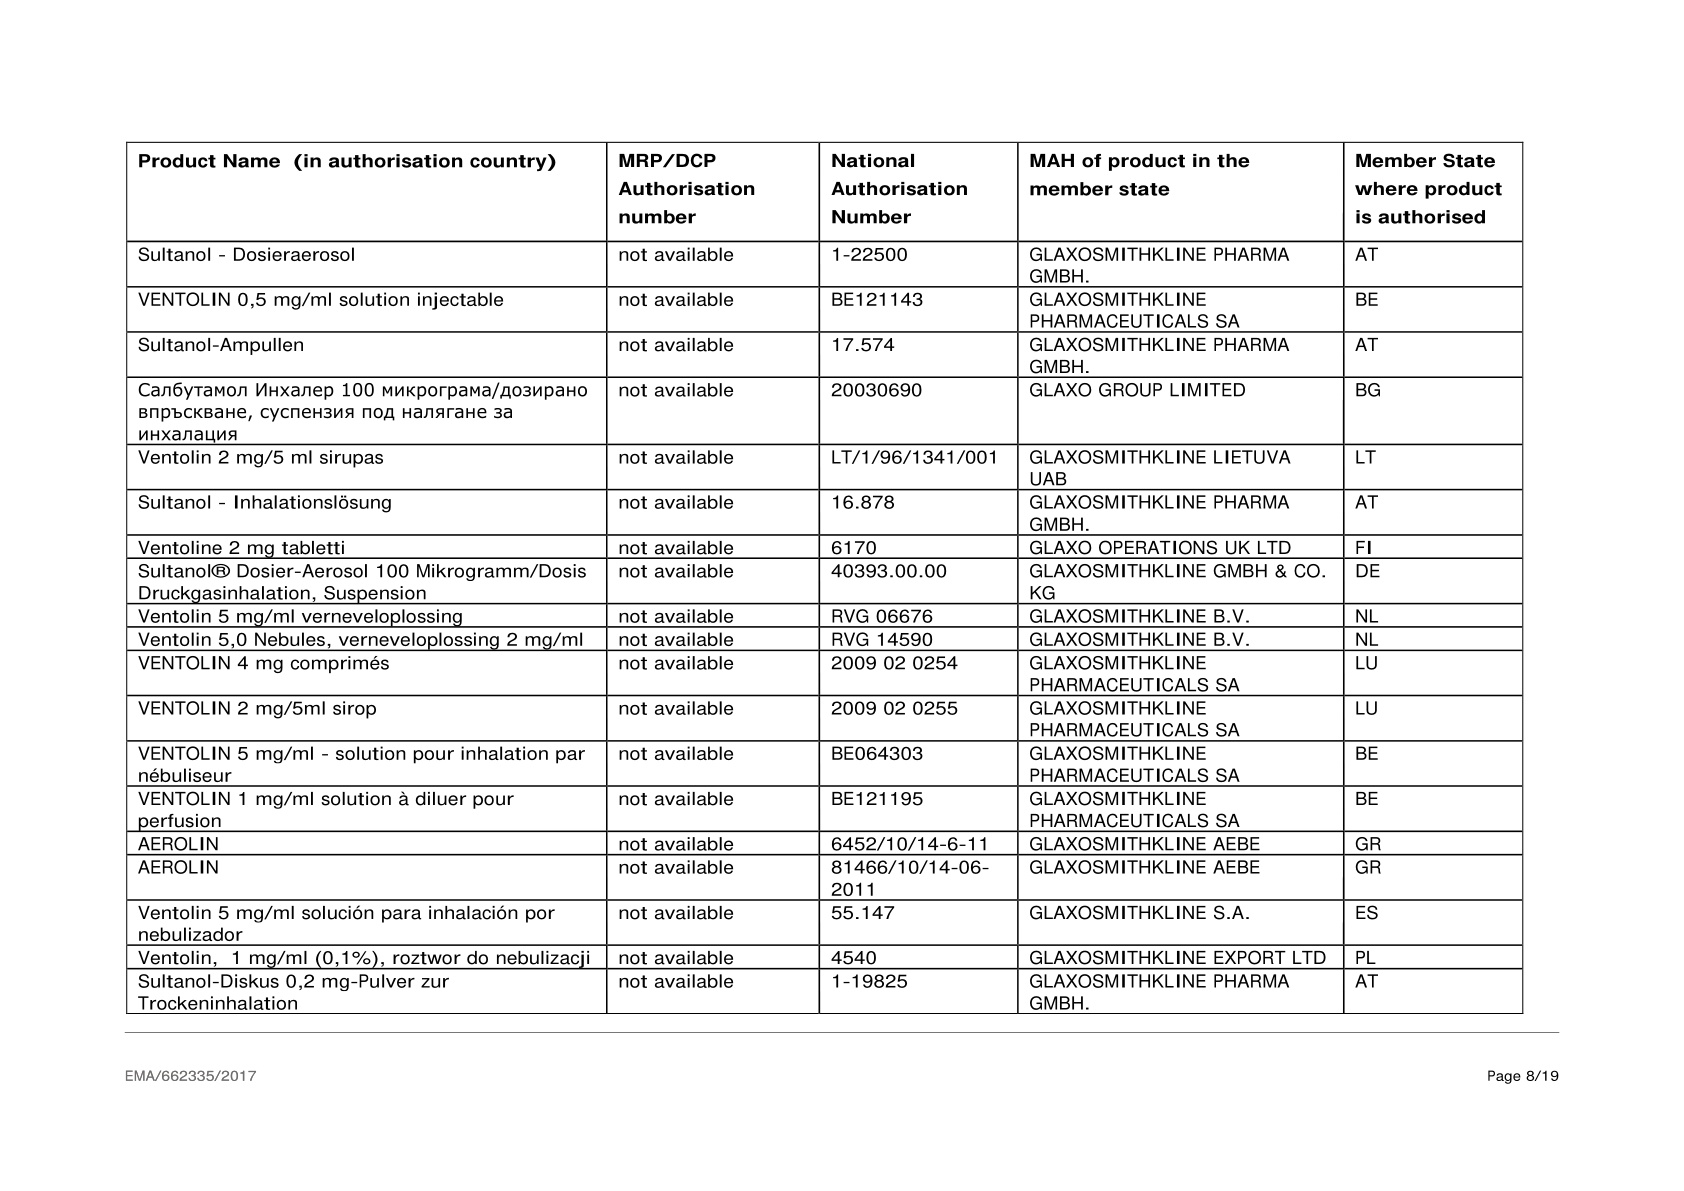full_lined: (125, 140, 1524, 1014)
